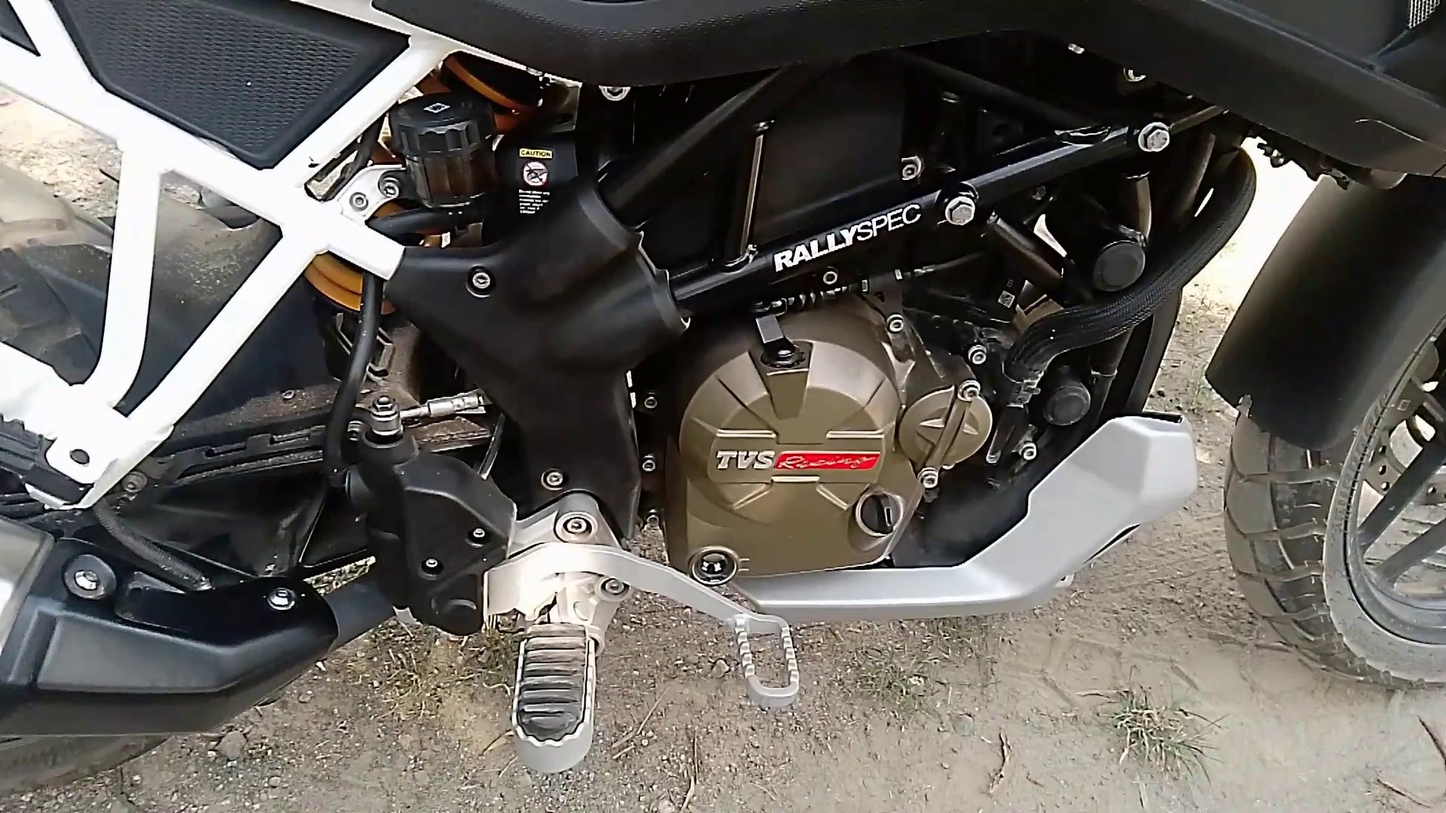bike-engine: (661, 301, 993, 584)
bike-engine-level: (690, 547, 735, 587)
bike-oil-cap: (853, 493, 900, 536)
